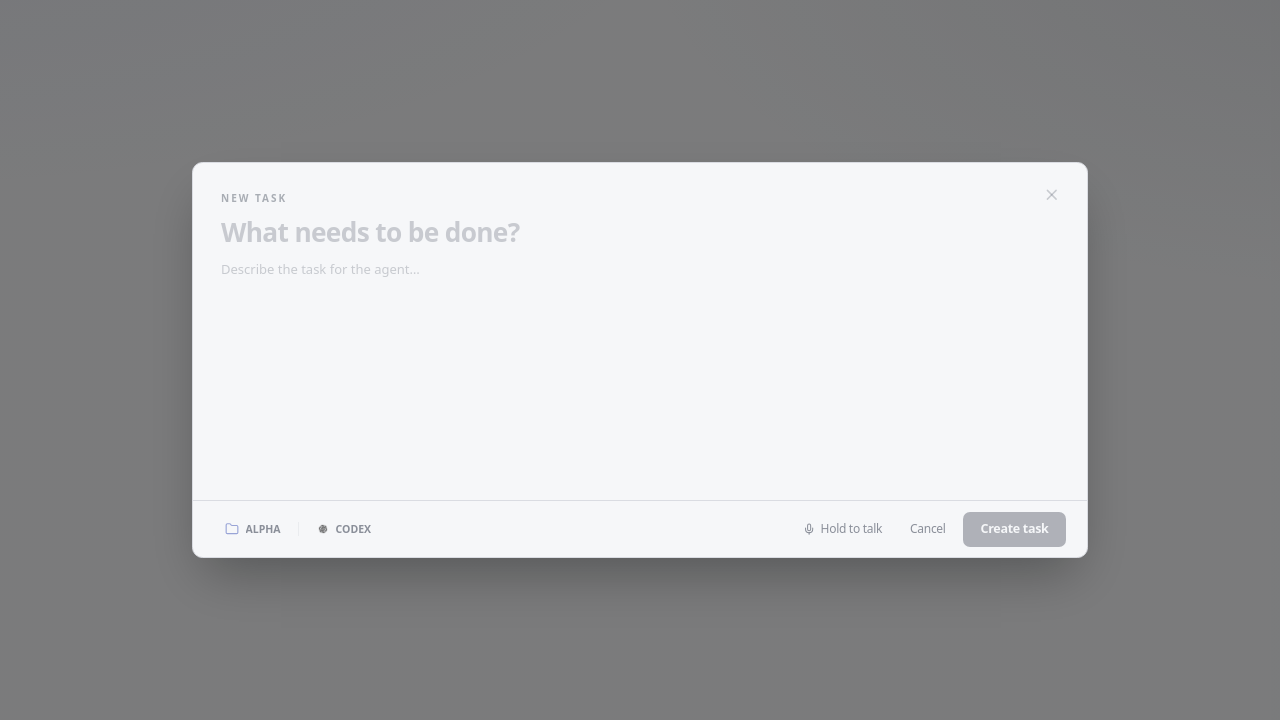
Test: CreateTaskDialog › shows title validation error for too-short titles
Type "ab" into the field with placeholder "What needs to be done?" at [640, 232], box [221,216,1059,248]
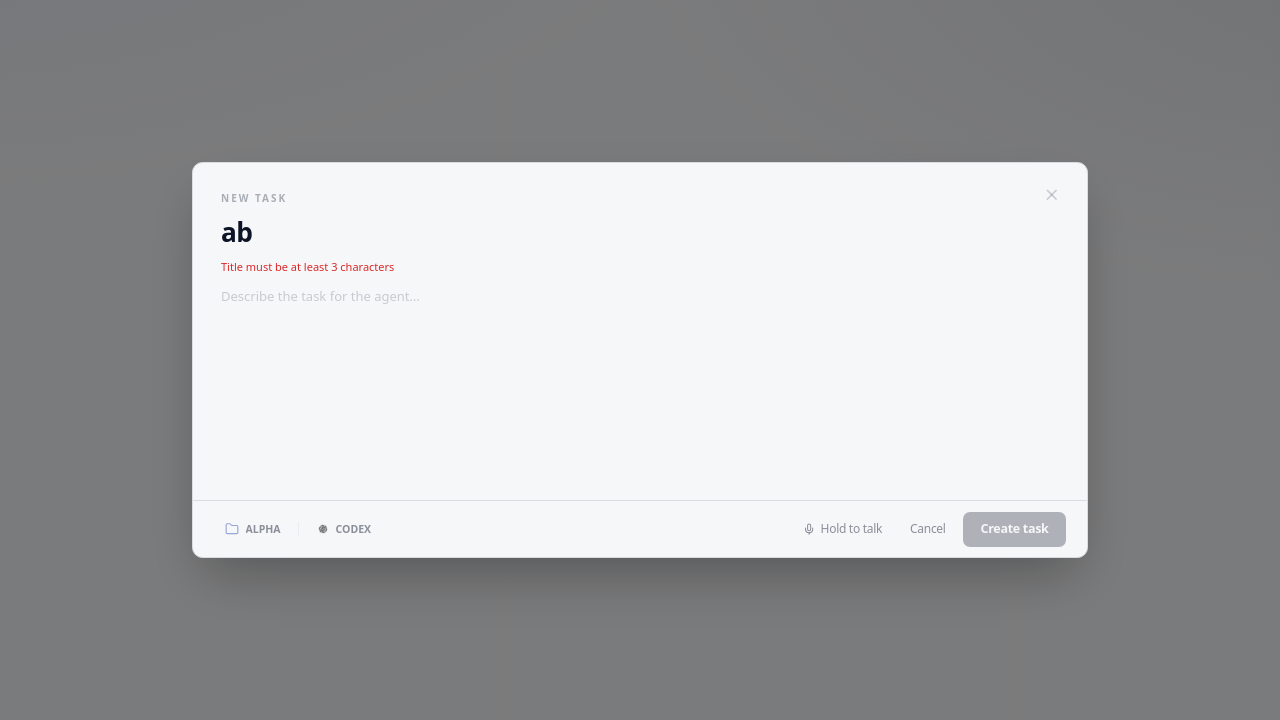
expect the text "Title must be at least 3 characters" is shown: met, box [221,258,394,274]
